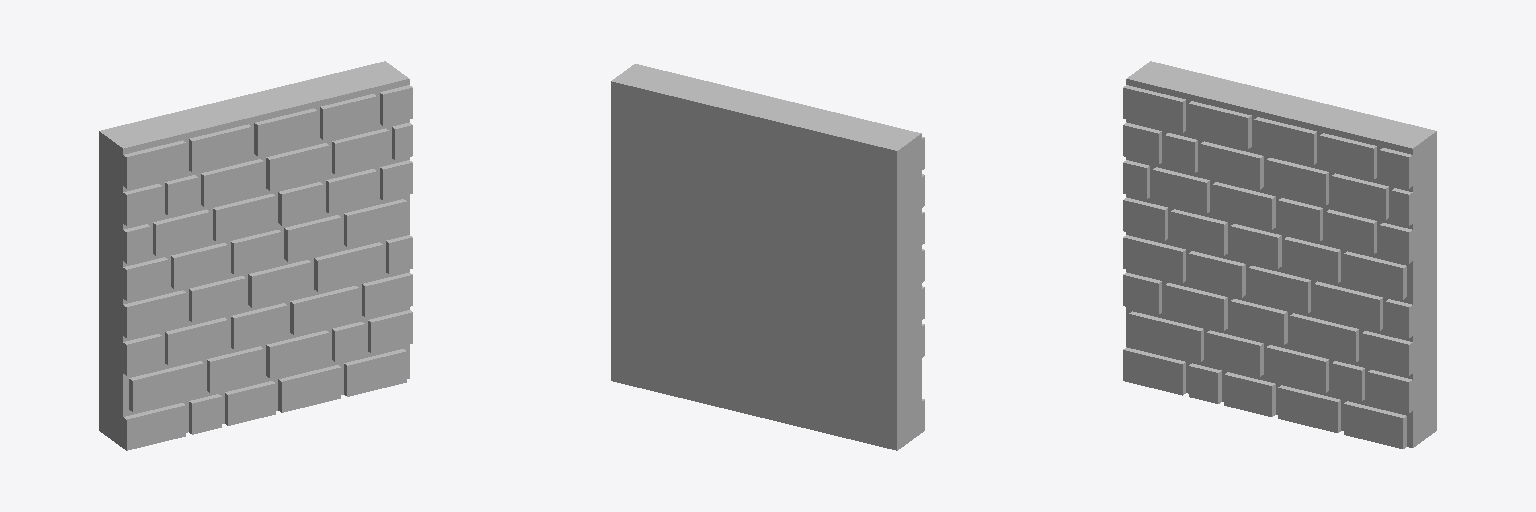
The model's file is stoneWall-0.obj.
3 views of the same model, side by side, from view 1: azimuth 30°, elevation 25°; view 2: azimuth 150°, elevation 25°; view 3: azimuth 330°, elevation 25° (orthographic).
Parts seen in each view (by area): view 1: object 1; view 2: object 1; view 3: object 1.
Part boxes in pixels (x1,y1,x2,y2): object 1: (99, 61, 412, 450); object 1: (611, 64, 924, 450); object 1: (1123, 61, 1436, 448).
Bounding box in the file's own units: 4.8 × 4.8 × 0.8.